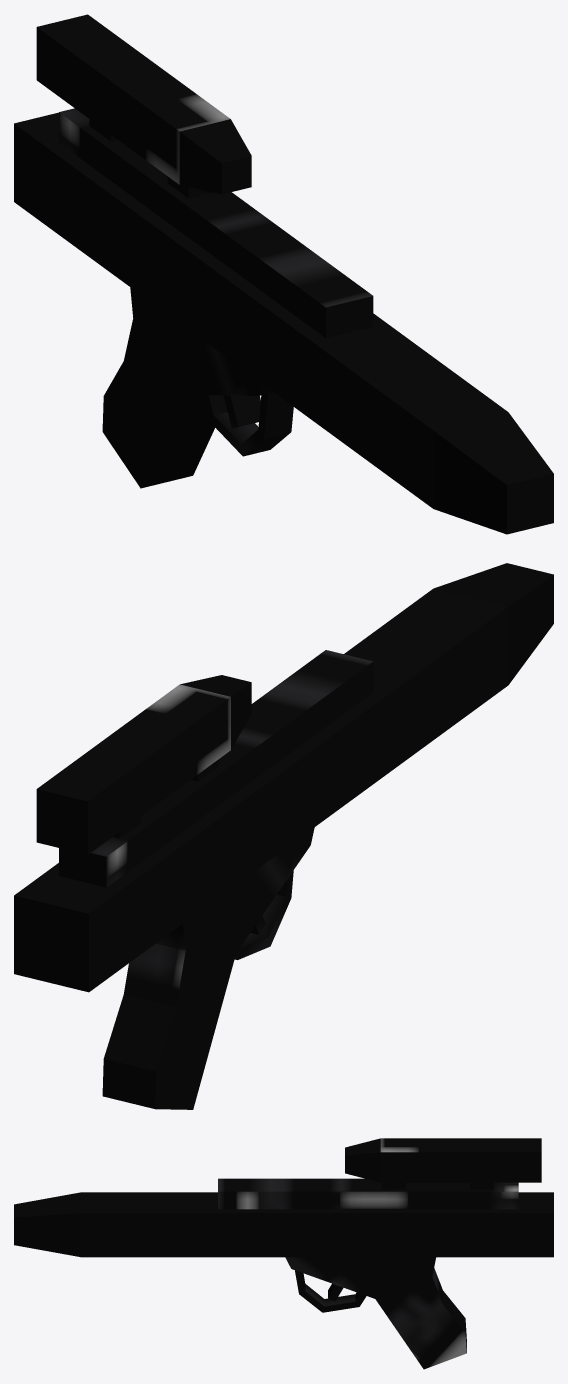
The model's file is INV-DH17.obj.
3 renders of one model, top to bottom at view 1: azimuth 30°, elevation 25°; view 2: azimuth 150°, elevation 25°; view 3: azimuth 270°, elevation 25°, orthographic. The views are drawn at different scales.
Visible parts, largest first — view 1: Cube; view 2: Cube; view 3: Cube.
Boxes of the visible parts, x1,y1,x2,y2 form: Cube: [14, 14, 553, 534]; Cube: [14, 563, 553, 1109]; Cube: [14, 1138, 553, 1369].
Bounding box in the file's own units: 0.4637 × 2.27 × 5.12.
